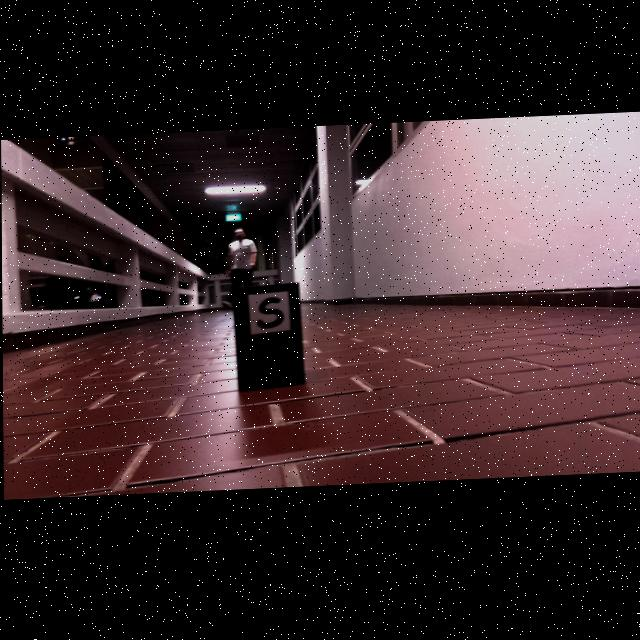S: (256, 299, 284, 330)
